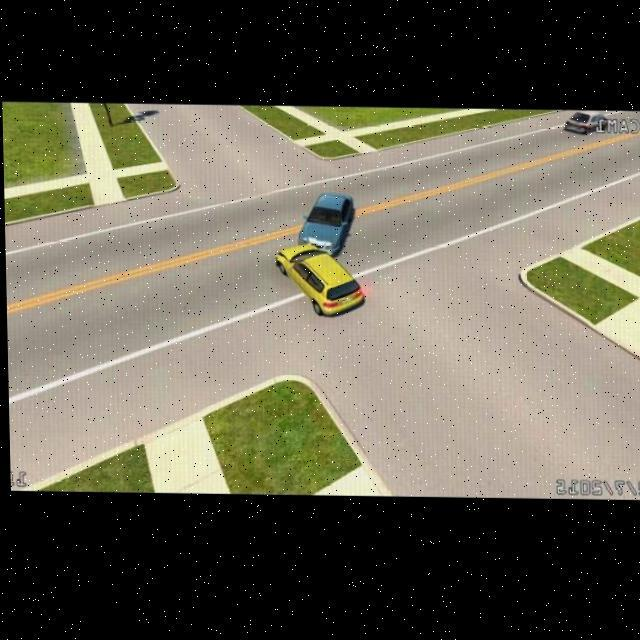multiple_accident: (260, 165, 398, 337)
